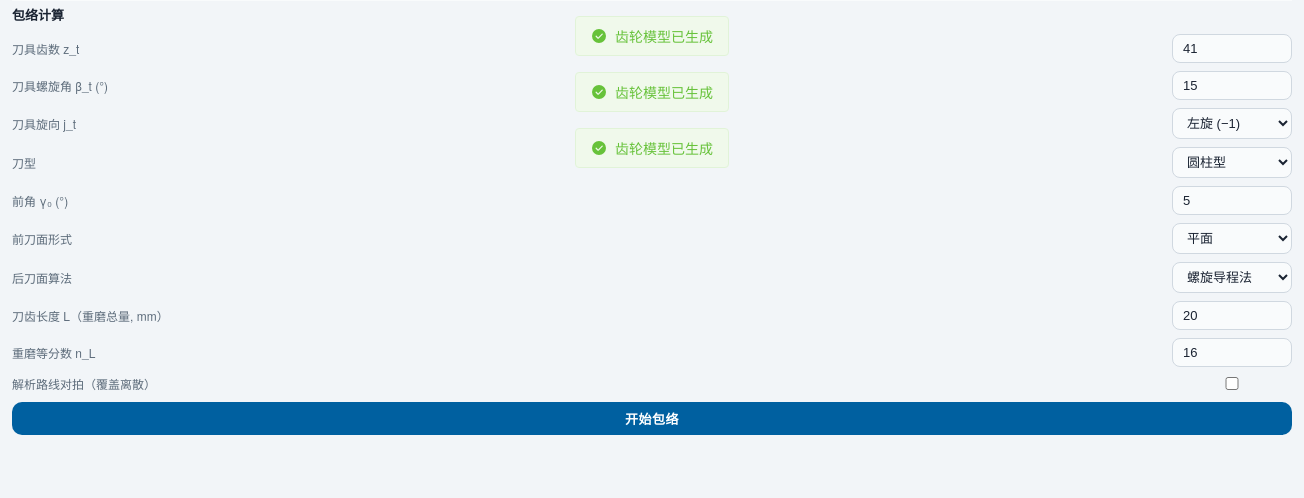
it: WorkpieceViewer — 包络计算（子 PRD-2 离散包络） › 点「开始包络」→ 依次派发刃形、产形面、等效产形齿轮、内齿轮齿面、前刀面、后刀面、单齿、整环八图层 + 诊断条显示
Click the button with test id "run-envelope" at (652, 418), box x1=12 y1=402 x2=1292 y2=435
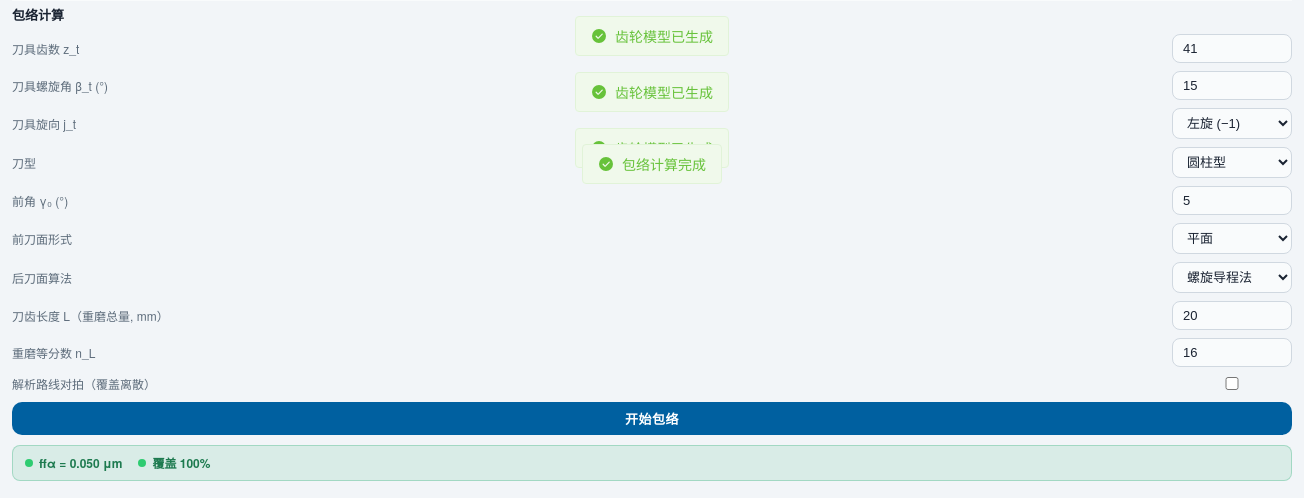
expect the text "覆盖" is shown: met, box x1=12 y1=375 x2=156 y2=392
expect the element with test id "diagnostic-strip" is shown: met, box x1=12 y1=445 x2=1292 y2=481
expect the text "ffα" is shown: met, box x1=39 y1=454 x2=122 y2=472
